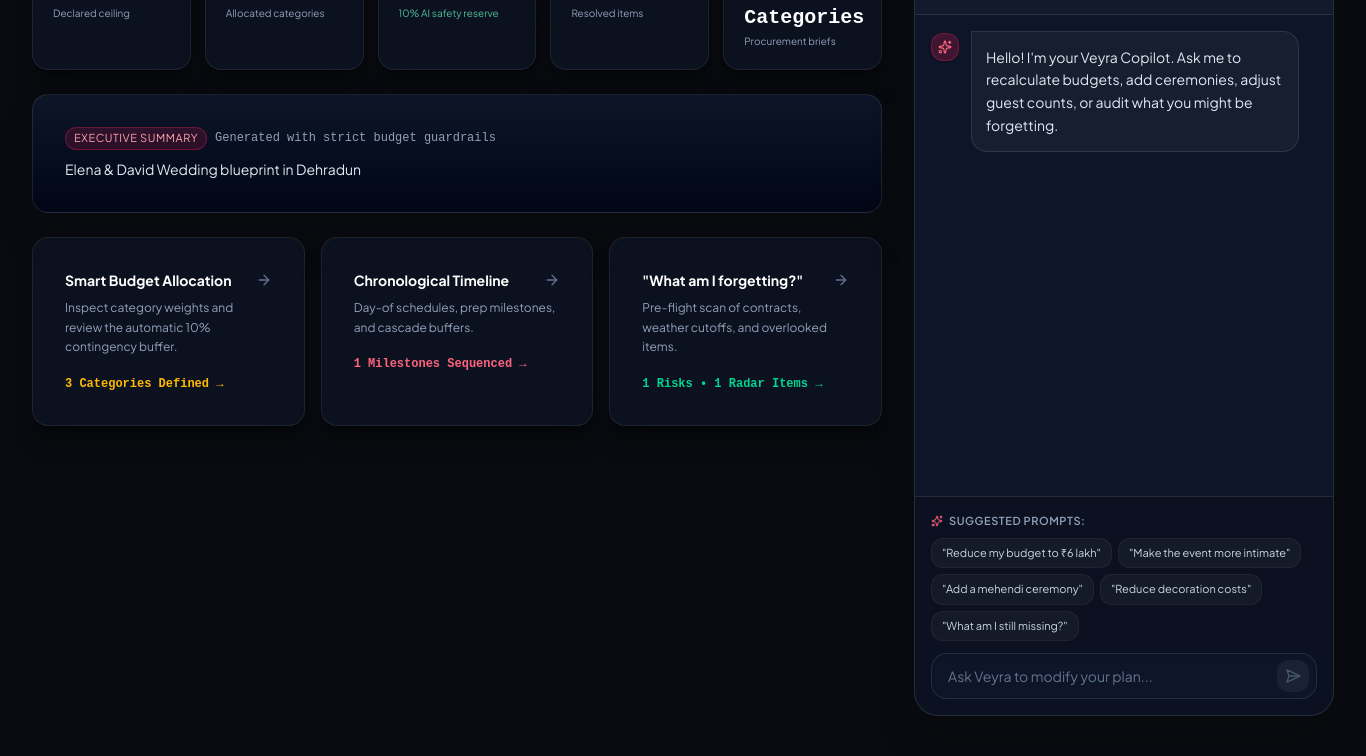
Test: Veyra Phase 4 - Copilot Frontend Acceptance Test Suite › 10. Missing item can become a task: clicking "Add to Tasks" converts Copilot missing item to local task
The image size is (1366, 756).
(page scrolled)
Type "What am I still missing?" into the field named "Ask Veyra Copilot to modify your plan" at (1124,676), box [931,653,1317,699]
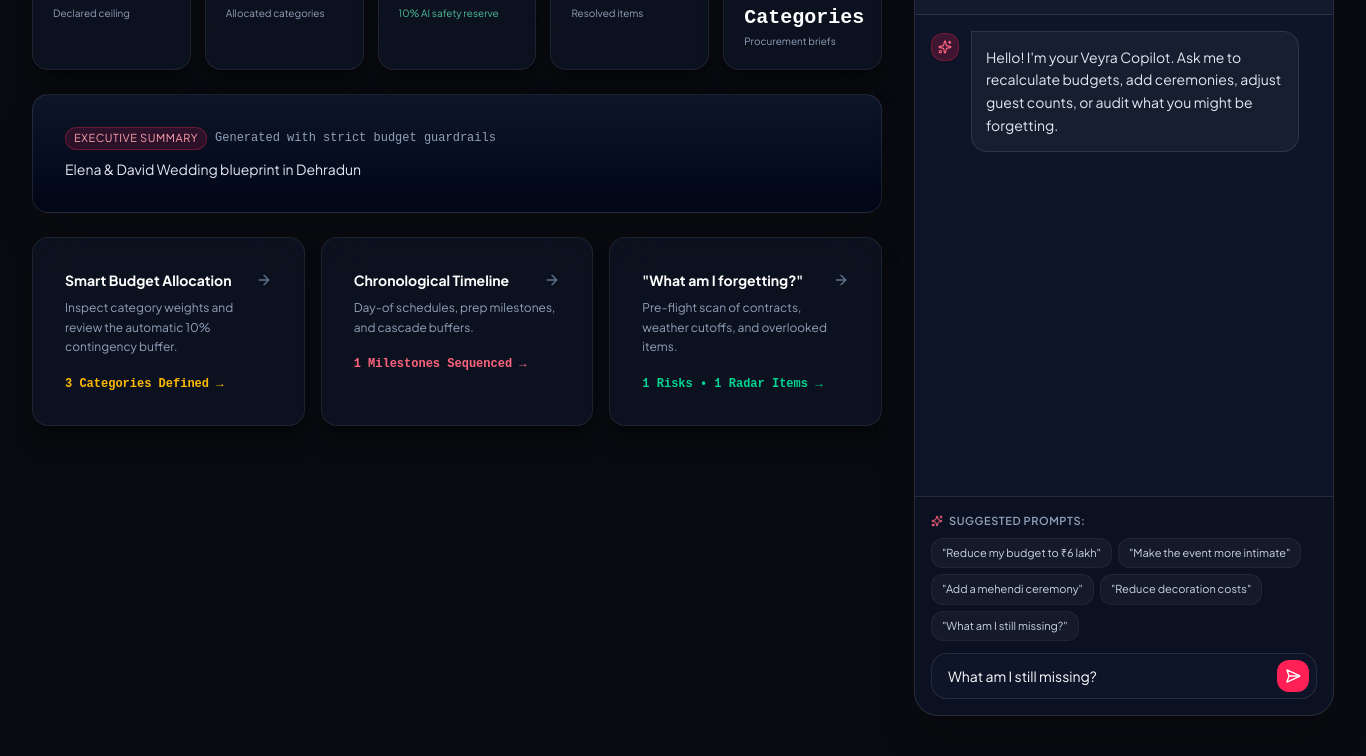
Click the button named "Send prompt to Veyra Copilot" at (1293,676), box [1277,660,1309,692]
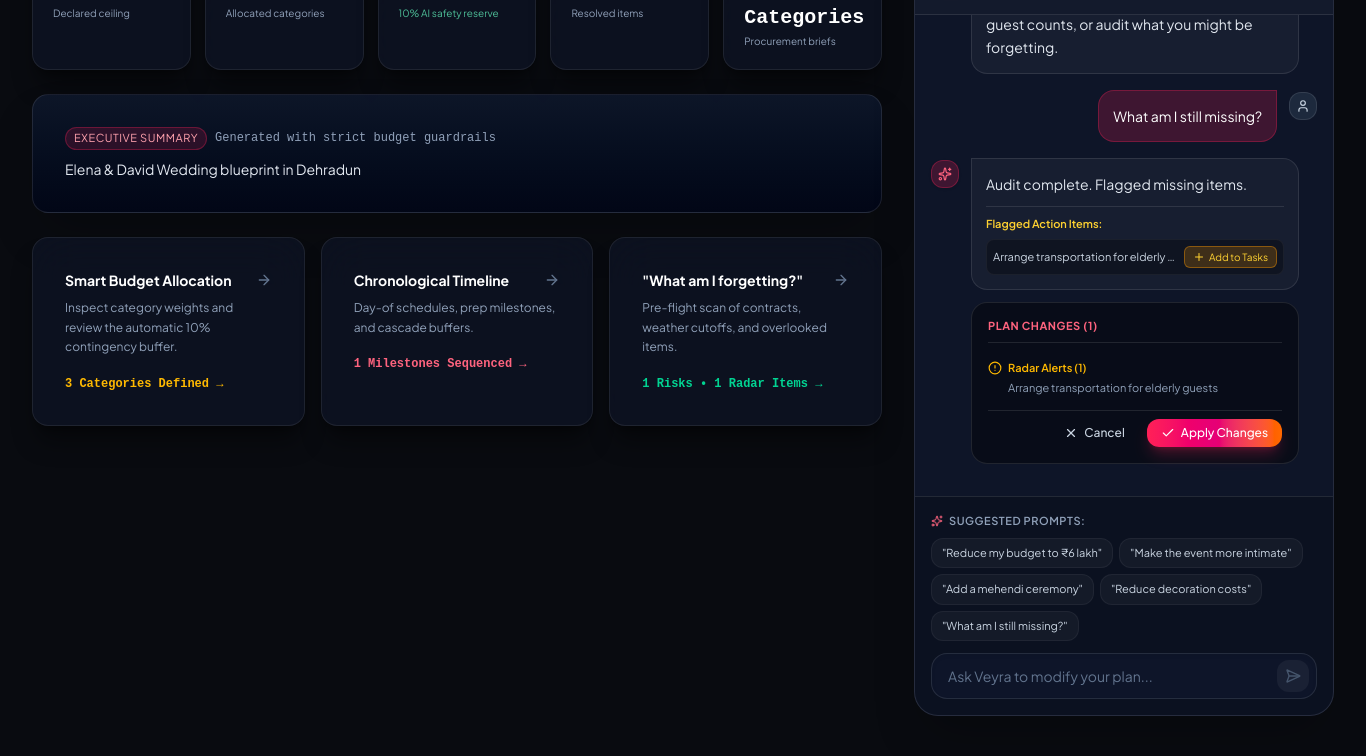
Click the button "Add to Tasks" at (1230,257), box [1184,246,1277,268]
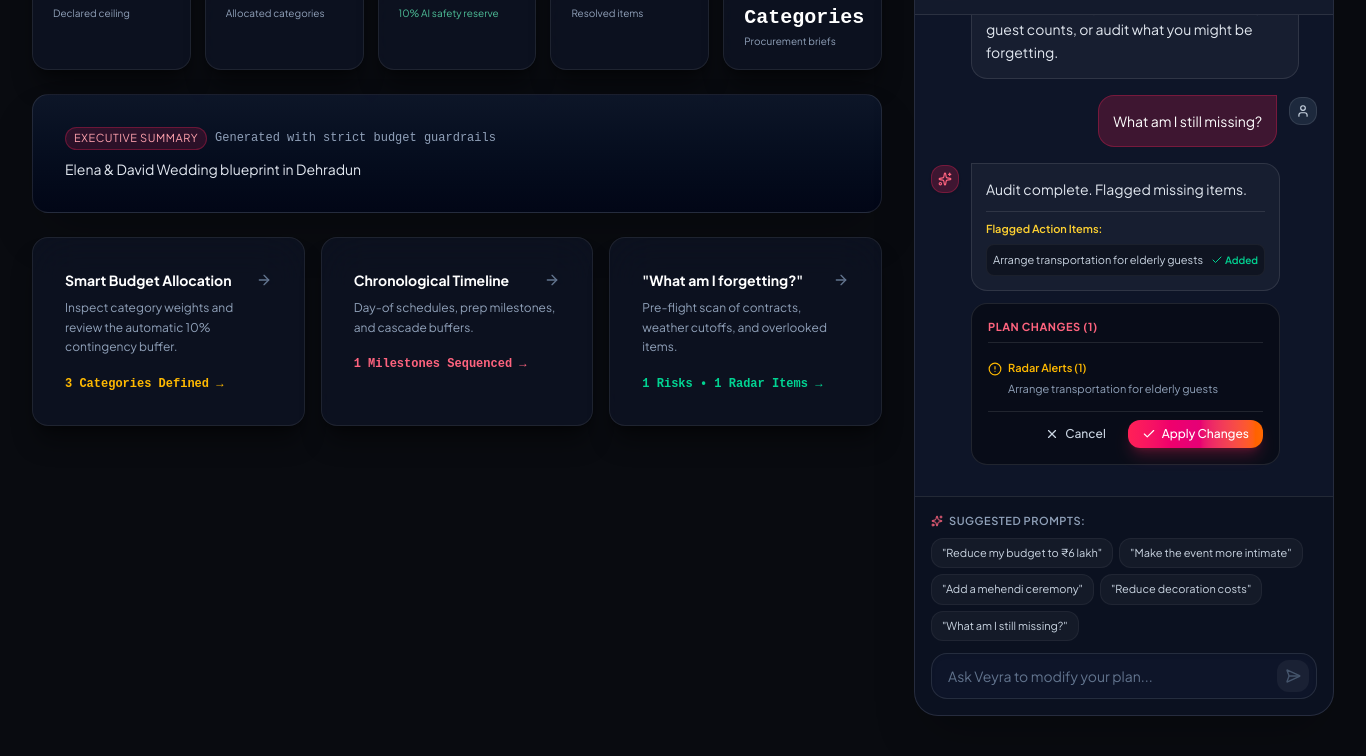
expect the text "Added" is shown: met, box [1211,252,1258,268]
